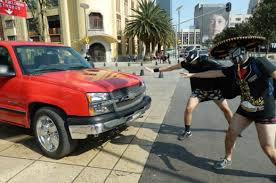mask: (222, 42, 254, 70), (178, 37, 205, 66)
